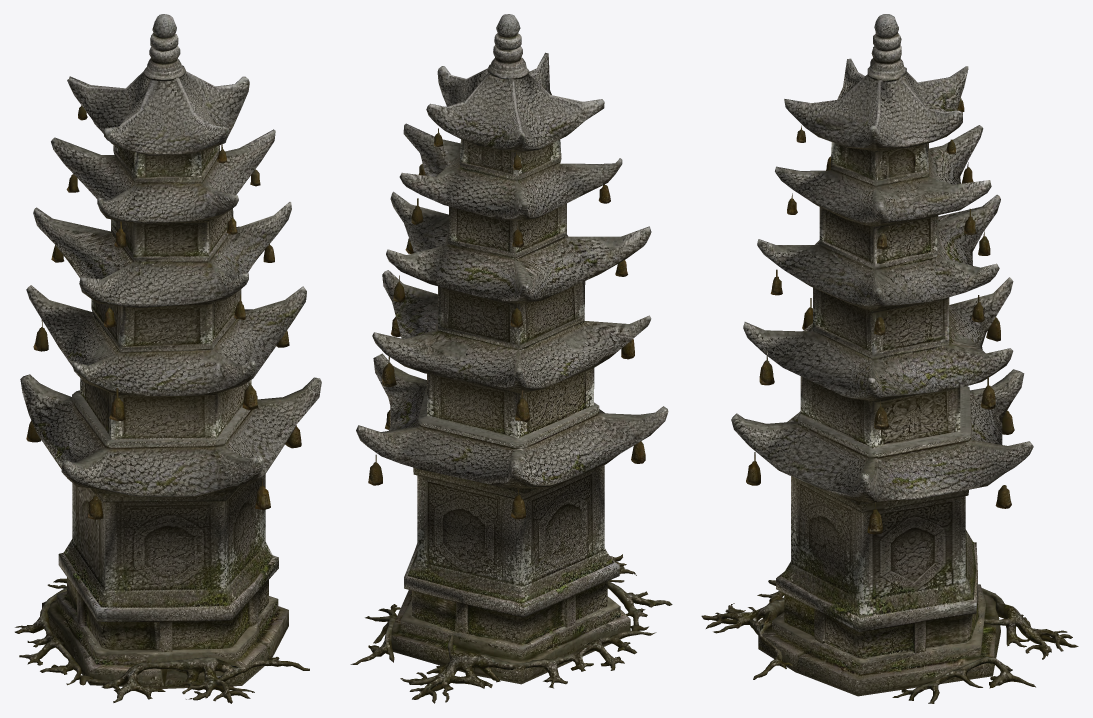
File: tripo_convert_443ca3ed-e71a-446f-8a6a-d9d718d547bf.fbx
The picture shows the model from 3 angles, left to right: view 1: azimuth 30°, elevation 25°; view 2: azimuth 150°, elevation 25°; view 3: azimuth 270°, elevation 25°; orthographic projection. The views are drawn at different scales.
Visible parts, largest first — view 1: tripo_node_443ca3ed; view 2: tripo_node_443ca3ed; view 3: tripo_node_443ca3ed.
Boxes of the visible parts, x1,y1,x2,y2 form: tripo_node_443ca3ed: (15,14,321,703); tripo_node_443ca3ed: (350,14,672,703); tripo_node_443ca3ed: (701,14,1078,703).
Bounding box in the file's own units: 0.4629 × 0.998 × 0.541.
1 material, 1 textured.
